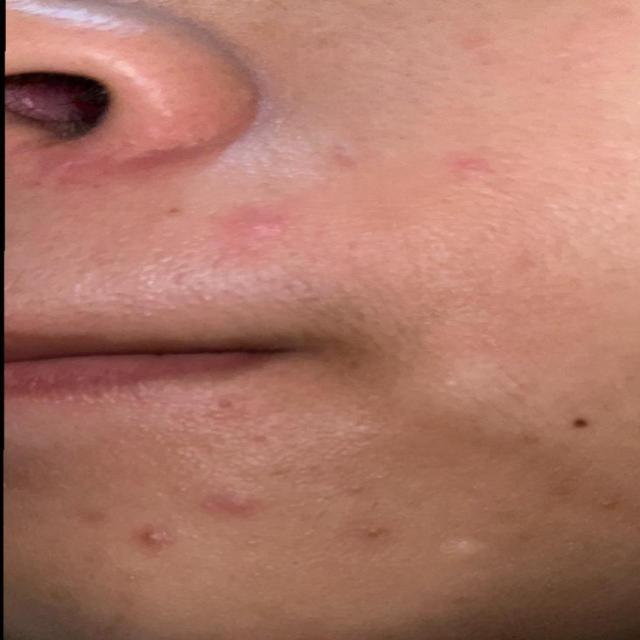papule: (193, 191, 313, 264), (177, 468, 249, 536)
pustule: (133, 523, 173, 558)
